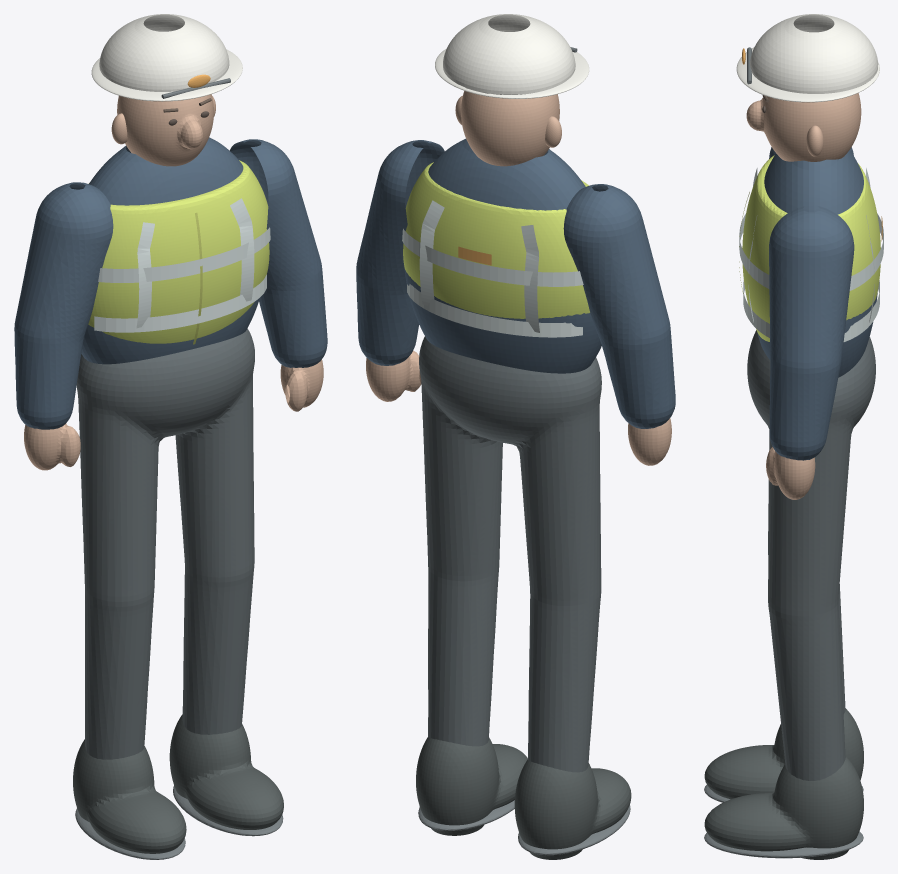
File: cong_nhan_bao_ho_lien_mach.glb
3 views of the same model, side by side, from view 1: azimuth 30°, elevation 25°; view 2: azimuth 150°, elevation 25°; view 3: azimuth 270°, elevation 25° (orthographic). The views are drawn at different scales.
Parts seen in each view (by area): view 1: 01_work_pants, 03_shirt_sleeve_-1, 15_high_vis_vest, 03_shirt_sleeve_1, 02_navy_shirt_body, 06_boot_1, 06_boot_-1, 12_helmet_crown, 07_face_neck, 16_reflective_waist_1_1.245, 16_reflective_waist_1_1.365, 04_hand_-1 (+6 smaller); view 2: 01_work_pants, 03_shirt_sleeve_-1, 15_high_vis_vest, 02_navy_shirt_body, 03_shirt_sleeve_1, 12_helmet_crown, 06_boot_-1, 06_boot_1, 07_face_neck, 16_reflective_waist_-1_1.365, 16_reflective_waist_-1_1.245, 04_hand_1 (+6 smaller); view 3: 01_work_pants, 03_shirt_sleeve_1, 06_boot_1, 12_helmet_crown, 15_high_vis_vest, 02_navy_shirt_body, 07_face_neck, 06_boot_-1, 04_hand_1, 13_helmet_brim, 21_boot_sole_1, 16_reflective_waist_-1_1.365 (+4 smaller).
Boxes of the visible parts, x1=… form: 01_work_pants: x1=76, y1=328, x2=254, y2=759; 03_shirt_sleeve_-1: x1=14, y1=182, x2=113, y2=429; 15_high_vis_vest: x1=88, y1=160, x2=269, y2=343; 03_shirt_sleeve_1: x1=229, y1=139, x2=327, y2=367; 02_navy_shirt_body: x1=81, y1=137, x2=259, y2=364; 06_boot_1: x1=169, y1=714, x2=283, y2=829; 06_boot_-1: x1=73, y1=739, x2=186, y2=853; 12_helmet_crown: x1=99, y1=14, x2=229, y2=91; 07_face_neck: x1=117, y1=94, x2=213, y2=166; 16_reflective_waist_1_1.245: x1=94, y1=274, x2=266, y2=332; 16_reflective_waist_1_1.365: x1=98, y1=227, x2=270, y2=282; 04_hand_-1: x1=24, y1=423, x2=80, y2=470; 01_work_pants: x1=419, y1=336, x2=601, y2=772; 03_shirt_sleeve_-1: x1=563, y1=184, x2=675, y2=428; 15_high_vis_vest: x1=403, y1=162, x2=589, y2=318; 02_navy_shirt_body: x1=404, y1=138, x2=601, y2=373; 03_shirt_sleeve_1: x1=356, y1=140, x2=444, y2=365; 12_helmet_crown: x1=443, y1=14, x2=575, y2=94; 06_boot_-1: x1=514, y1=759, x2=631, y2=859; 06_boot_1: x1=416, y1=737, x2=527, y2=835; 07_face_neck: x1=461, y1=91, x2=559, y2=166; 16_reflective_waist_-1_1.365: x1=402, y1=228, x2=583, y2=286; 16_reflective_waist_-1_1.245: x1=407, y1=284, x2=582, y2=337; 04_hand_1: x1=366, y1=350, x2=421, y2=401; 01_work_pants: x1=747, y1=330, x2=875, y2=780; 03_shirt_sleeve_1: x1=769, y1=206, x2=854, y2=460; 06_boot_1: x1=704, y1=756, x2=863, y2=859; 12_helmet_crown: x1=750, y1=14, x2=878, y2=93; 15_high_vis_vest: x1=742, y1=155, x2=880, y2=341; 02_navy_shirt_body: x1=757, y1=150, x2=877, y2=377; 07_face_neck: x1=746, y1=93, x2=861, y2=161; 06_boot_-1: x1=704, y1=708, x2=863, y2=799; 04_hand_1: x1=766, y1=447, x2=815, y2=499; 13_helmet_brim: x1=736, y1=47, x2=879, y2=102; 21_boot_sole_1: x1=704, y1=831, x2=863, y2=858; 16_reflective_waist_-1_1.365: x1=849, y1=213, x2=883, y2=290.
Bounding box in the file's own units: 0.74 × 1.85 × 0.3761.
